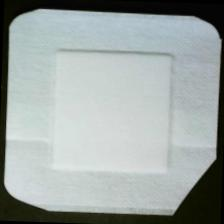Cut: (1, 5, 224, 219)
